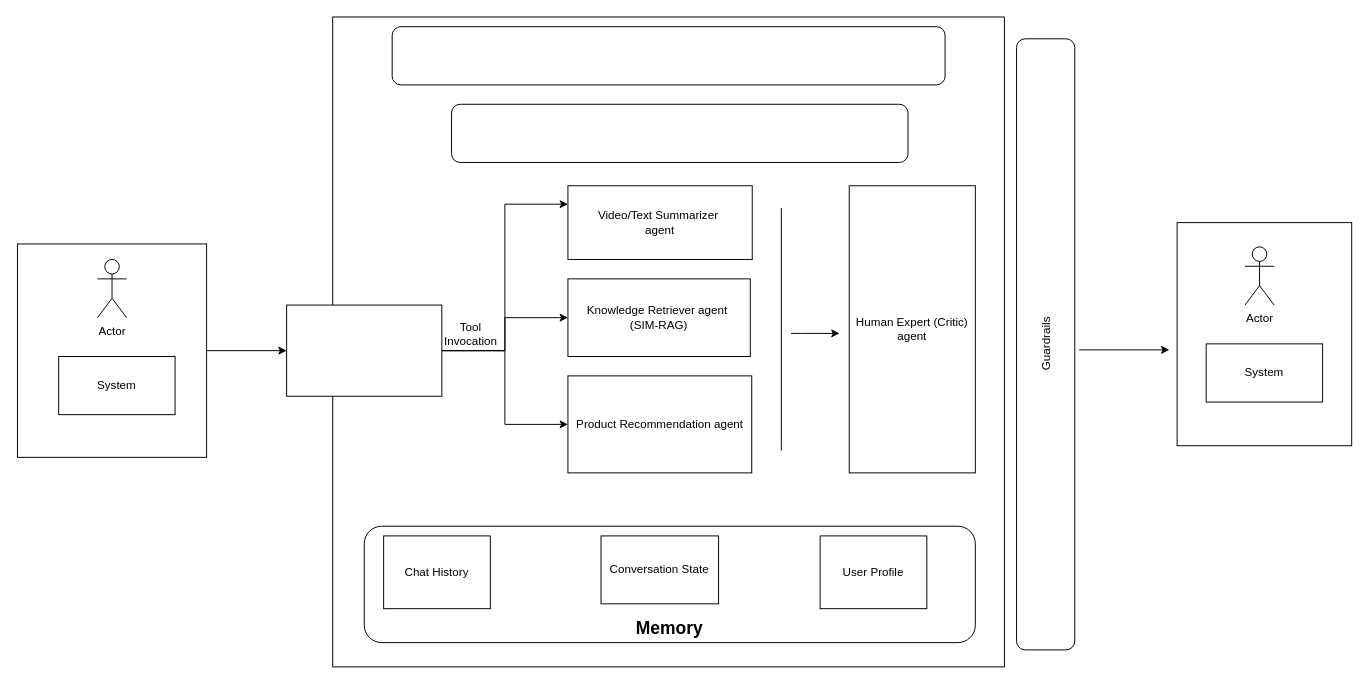
This 1369x684 diagram has some shape labels left out. The centre of each missing label's shape, as x and y in pixels:
HomeHelper Agentic System: (668,55)
Large Language Model (llm): (679,132)
Orchestrator agent: (364,350)
